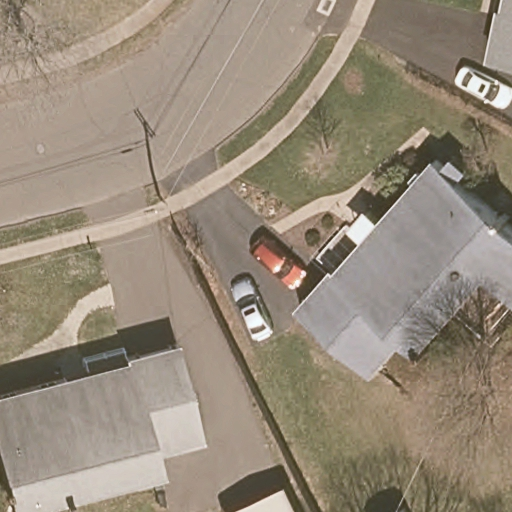DT: (143, 181, 176, 227)
